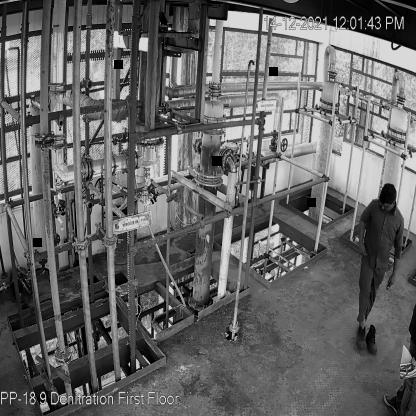shoes: (367, 324, 379, 357), (355, 328, 367, 355)
